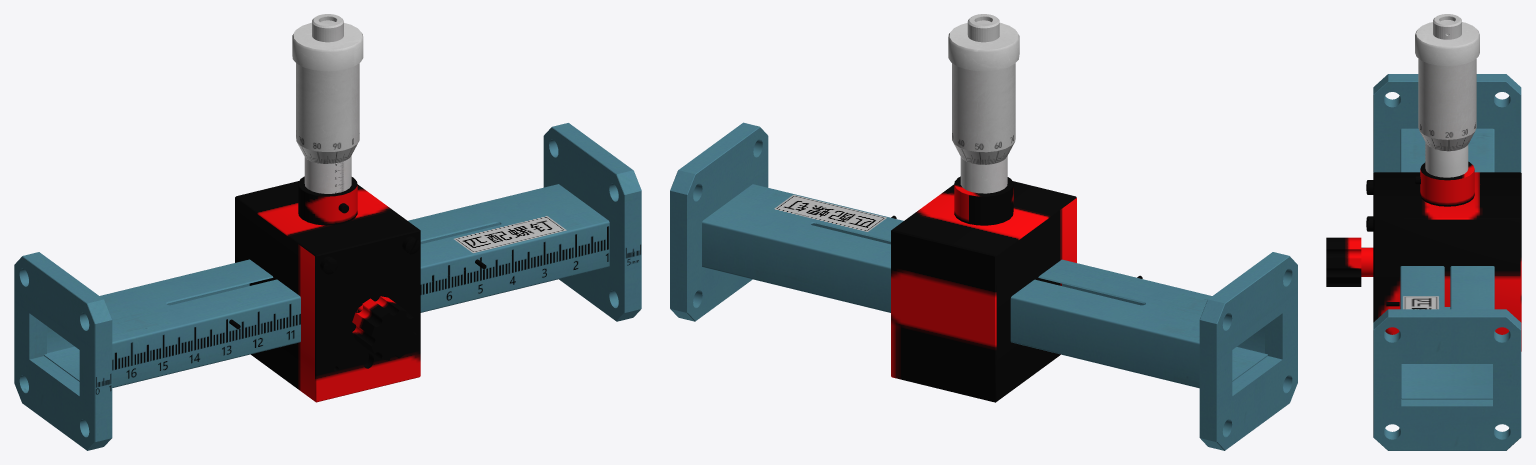
Rendered from PiPeiLuoDing2.FBX.
3 renders of one model, left to right at view 1: azimuth 30°, elevation 25°; view 2: azimuth 150°, elevation 25°; view 3: azimuth 270°, elevation 25°, orthographic. The views are drawn at different scales.
Parts seen in each view (by area): view 1: Box001, 对象004, Box002, Box004, c1, Cylinder002, 对象001, e1; view 2: Box001, 对象004, Box002, Box004, c1, 对象001, e1; view 3: Box004, 对象004, Box001, Box002, c1, Cylinder002, 对象001, e1.
Part boxes in pixels (x1,y1,x2,y2): Box001: (44,184,609,387); 对象004: (235,176,420,402); Box002: (14,252,112,450); Box004: (543,123,641,321); c1: (292,22,363,163); Cylinder002: (352,296,417,360); 对象001: (304,156,351,193); e1: (312,14,343,42); Box001: (702,184,1267,388); 对象004: (891,176,1076,402); Box002: (1199,252,1297,450); Box004: (670,122,768,321); c1: (948,22,1019,164); 对象001: (960,156,1007,193); e1: (967,14,999,42); Box004: (1373,309,1521,450); 对象004: (1366,161,1521,351); Box001: (1400,128,1494,399); Box002: (1373,74,1521,172); c1: (1415,22,1479,151); Cylinder002: (1326,237,1373,286); 对象001: (1425,142,1468,177); e1: (1433,14,1461,39).
Size of the model in its own units: 155 by 92.32 by 52.69.
